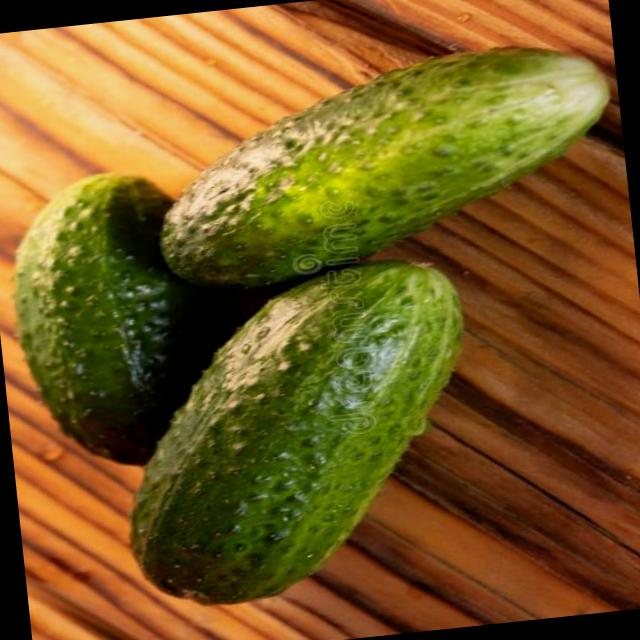Cucumber: (118, 260, 480, 603), (160, 46, 610, 286)
